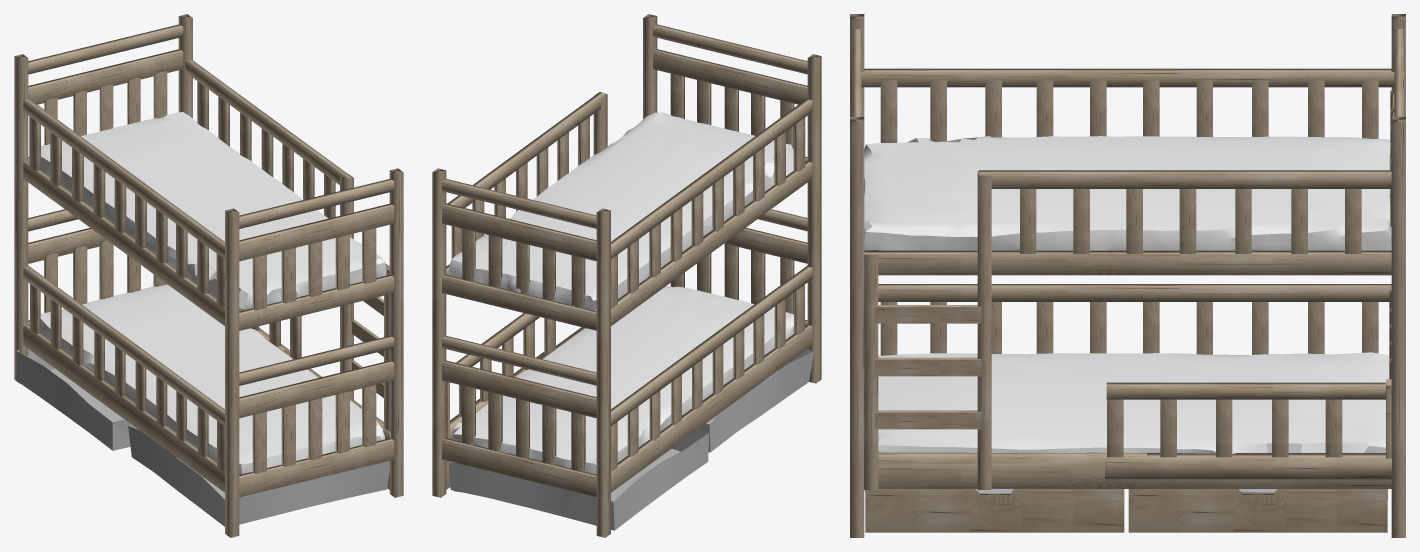
Rendered from bunk bed.fbx.
3 renders of one model, left to right at view 1: azimuth 30°, elevation 25°; view 2: azimuth 150°, elevation 25°; view 3: azimuth 270°, elevation 25°, orthographic. The views are drawn at different scales.
Parts seen in each view (by area): view 1: default, default001, Box018, Cube.006, Cube.013, Cube.005, Box010, Cube.008, Cube.009, Cube.021, Cube.022, Cube.016 (+54 smaller); view 2: default, default001, Box010, Cube.008, Cube.013, Cube.006, Cube.007, Cube.009, Cube.021, Cube.022, Cube.015, Box018 (+52 smaller); view 3: default, default001, Cube.010, Cube, Cube.001, Cube.021, Cube.022, Cube.014, Cube.027, Cube.081, Cube.007, Cube.005 (+40 smaller).
Part boxes in pixels (x1,y1,x2,y2): default: [41, 112, 386, 311]; default001: [40, 284, 384, 474]; Box018: [128, 424, 389, 526]; Cube.006: [225, 208, 239, 537]; Cube.013: [23, 324, 224, 492]; Cube.005: [389, 168, 403, 497]; Box010: [16, 349, 131, 450]; Cube.008: [14, 54, 28, 383]; Cube.009: [23, 161, 224, 325]; Cube.021: [23, 98, 224, 258]; Cube.022: [23, 265, 224, 425]; Cube.016: [239, 438, 394, 497]; default: [449, 112, 793, 311]; default001: [452, 286, 793, 474]; Box010: [449, 429, 709, 530]; Cube.008: [596, 208, 610, 537]; Cube.013: [611, 324, 812, 492]; Cube.006: [807, 54, 821, 383]; Cube.007: [432, 168, 446, 497]; Cube.009: [611, 161, 812, 325]; Cube.021: [611, 98, 812, 258]; Cube.022: [611, 265, 812, 425]; Cube.015: [442, 438, 596, 496]; Box018: [698, 349, 814, 452]; default: [864, 136, 1391, 250]; default001: [878, 352, 1389, 453]; Cube.010: [864, 250, 1391, 275]; Cube: [1128, 489, 1387, 532]; Cube.001: [865, 489, 1124, 532]; Cube.021: [861, 68, 1403, 87]; Cube.022: [878, 284, 1391, 301]; Cube.014: [878, 463, 1391, 488]; Cube.027: [978, 170, 1391, 188]; Cube.081: [1105, 453, 1391, 479]; Cube.007: [1391, 117, 1405, 537]; Cube.005: [850, 117, 864, 537].
Size of the model in its own units: 96.24 by 167 by 203.
3 materials, 1 textured.
